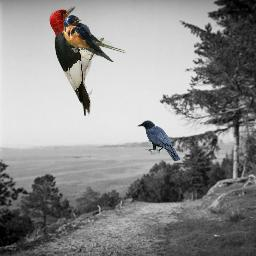Crow: (137, 120, 180, 162)
Swallow: (63, 14, 126, 62)
Woodpecker: (48, 5, 104, 116)
